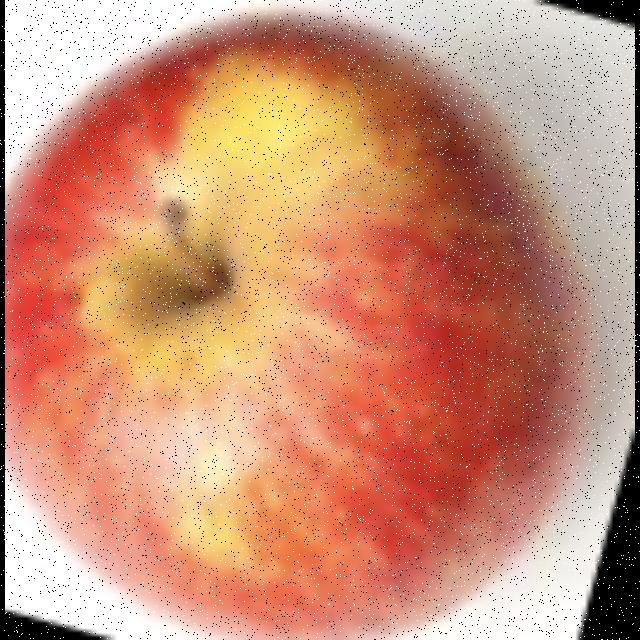Apel Segar: (5, 5, 602, 640)
